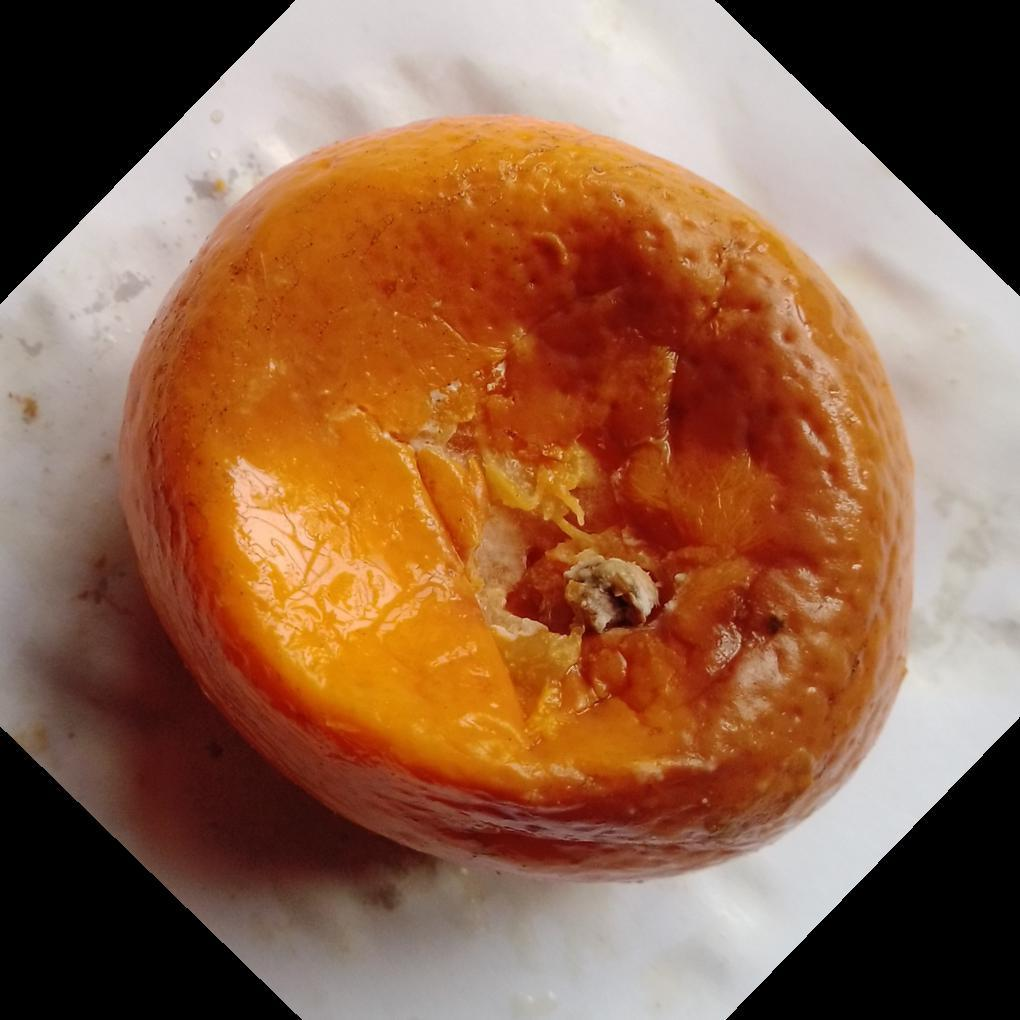FreshOrange: (112, 118, 916, 885)
